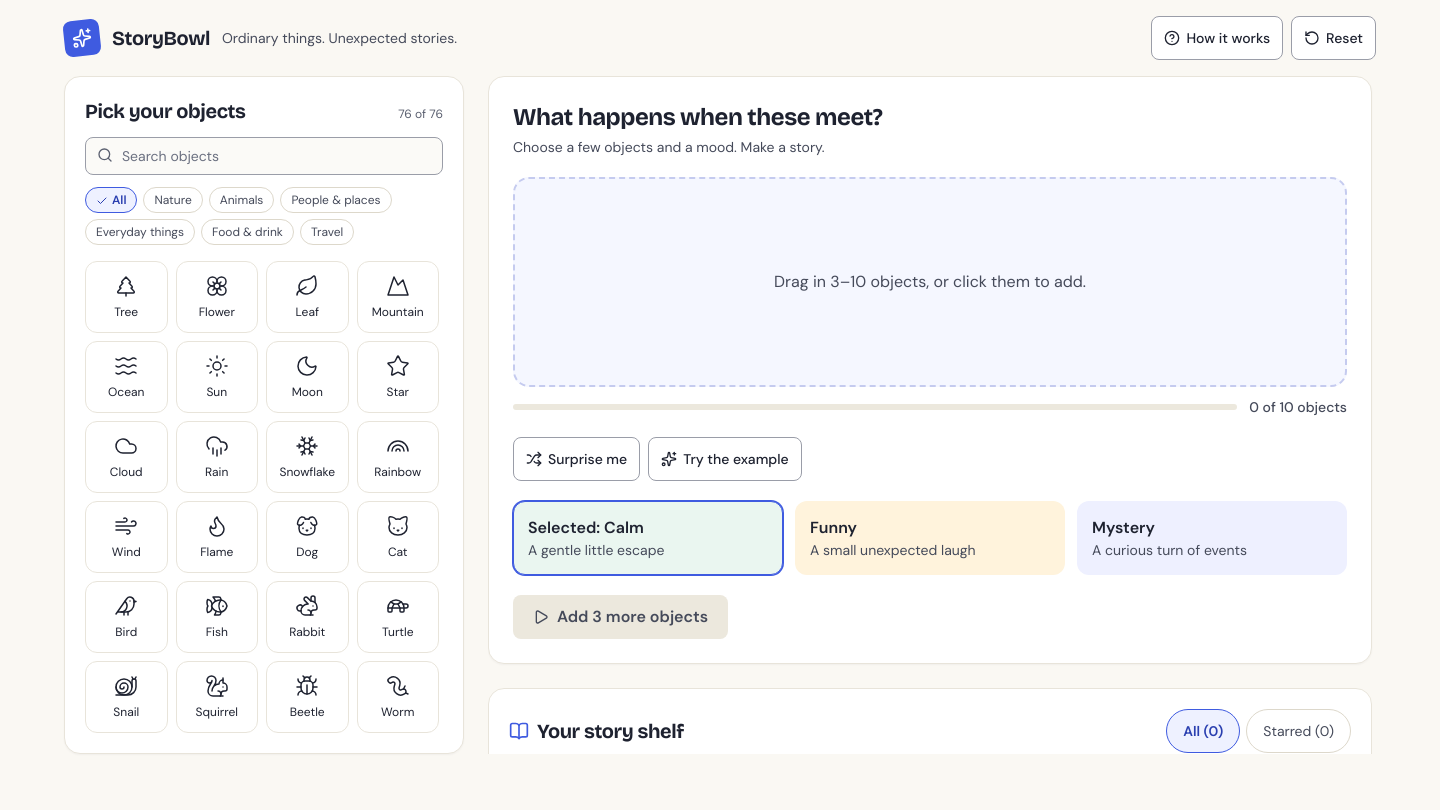
Test: generation and narration › aborts on mood and ignores a late success even if the mock ignores abort
Click the button "Try the example". click: (725, 459)
box: [648, 437, 802, 481]
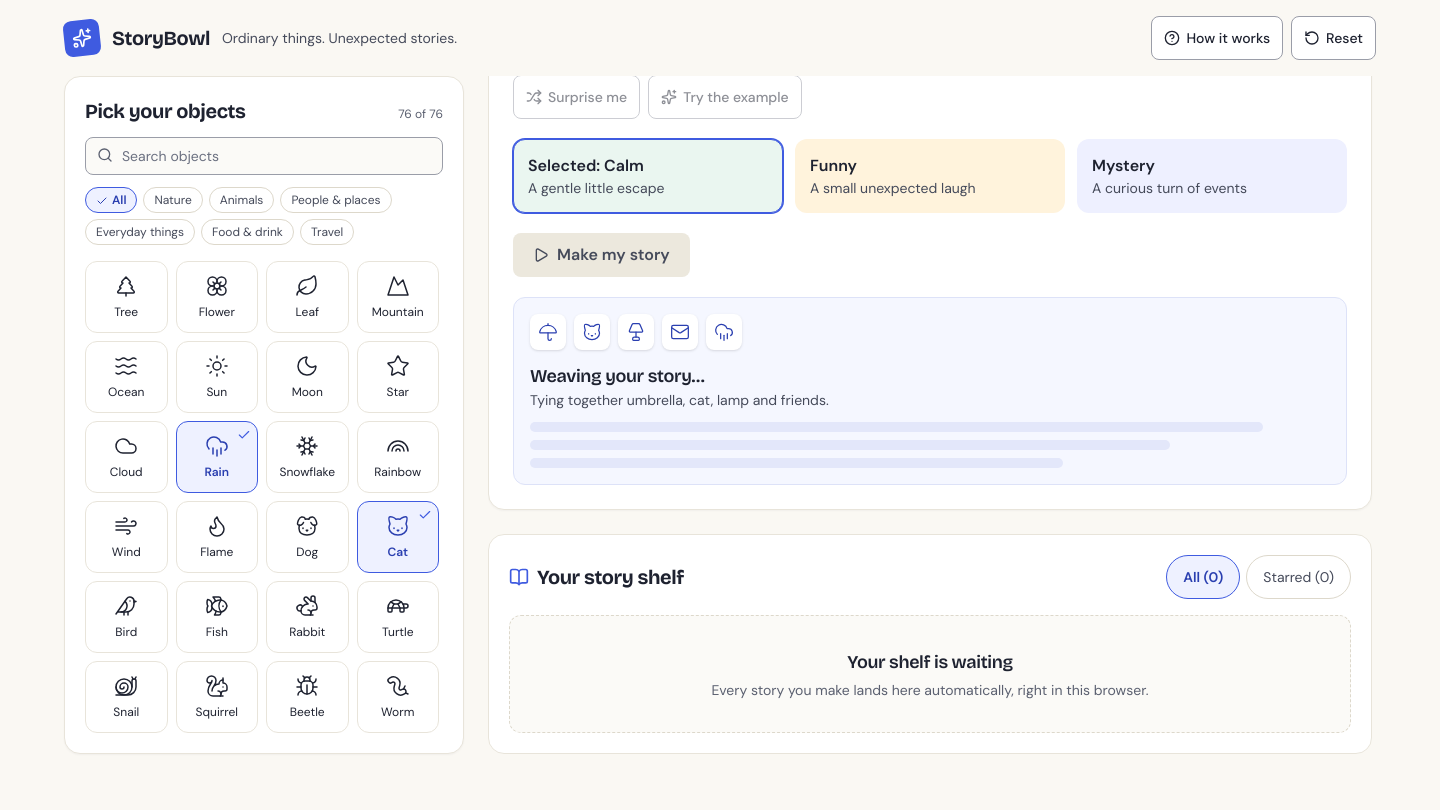
Expected: the message "Weaving your story… Tying together umbrella, cat, lamp and friends." is shown, [513, 297, 1347, 485]
Click the radio button labelled "Mystery A curious turn of events". click: (1212, 176)
box: [1077, 139, 1347, 213]
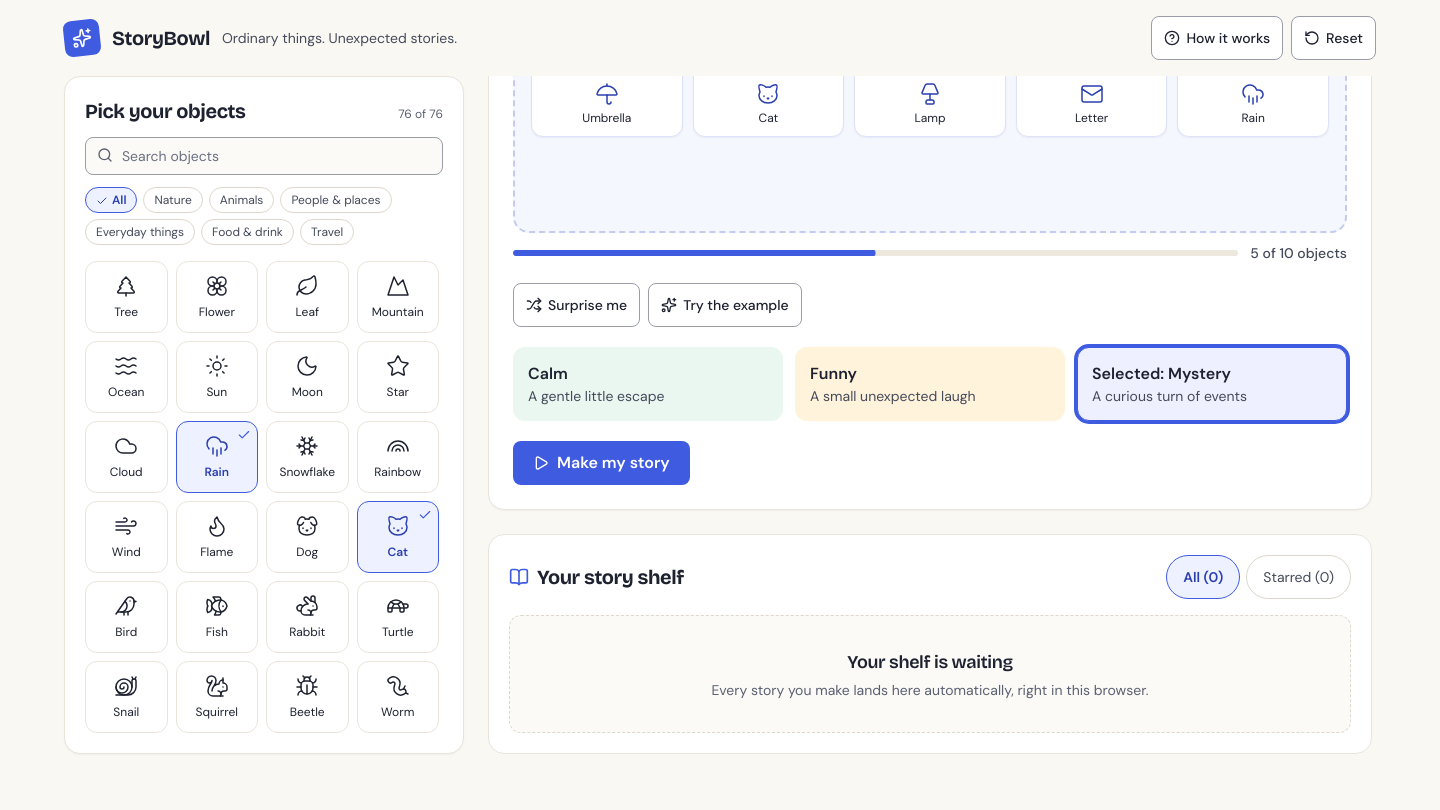
Expected: the message with test id "text-loading" is gone
Expected: the message "Weaving your story… Tying together umbrella, cat, lamp and friends." is gone
